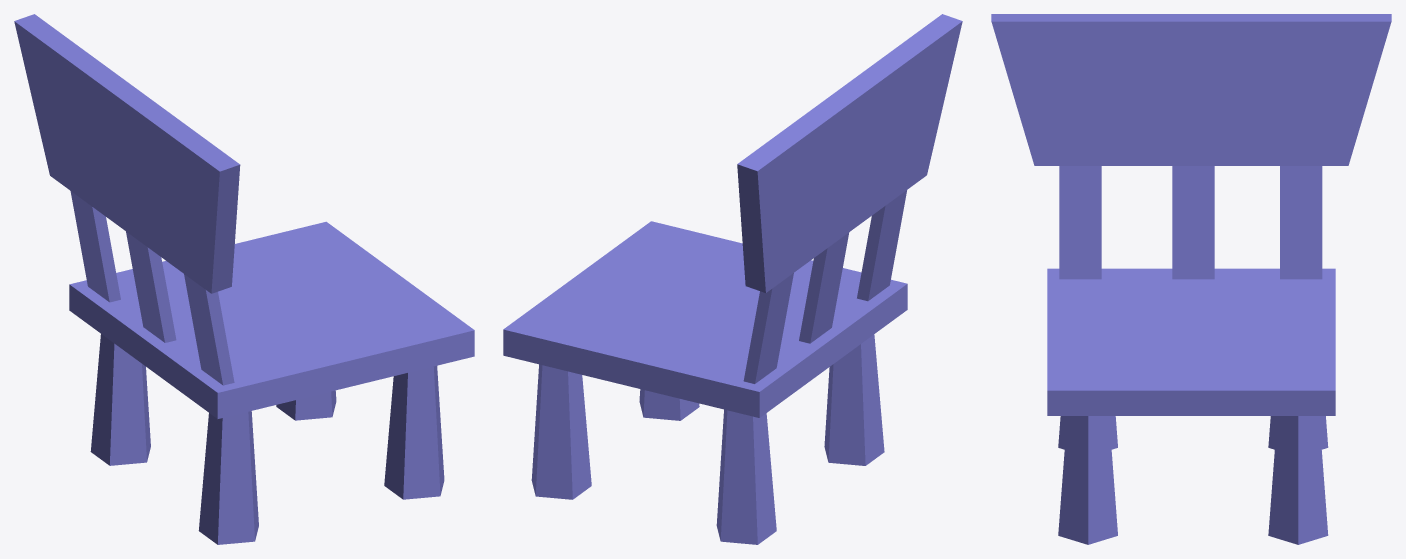
Rendered from PurpleKidChair.fbx.
The picture shows the model from 3 angles, left to right: view 1: azimuth 30°, elevation 25°; view 2: azimuth 150°, elevation 25°; view 3: azimuth 270°, elevation 25°; orthographic projection. The views are drawn at different scales.
Parts seen in each view (by area): view 1: pCube9; view 2: pCube9; view 3: pCube9.
Part boxes in pixels (x1,y1,x2,y2): pCube9: [14, 14, 474, 544]; pCube9: [503, 14, 962, 544]; pCube9: [991, 14, 1391, 544].
Size of the model in its own units: 1.42 by 1.99 by 1.79.
